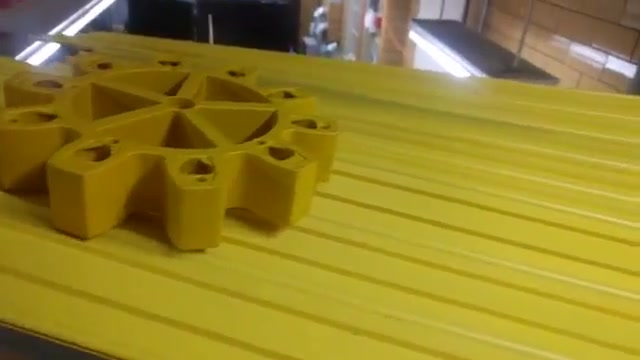gear: (4, 26, 336, 273)
